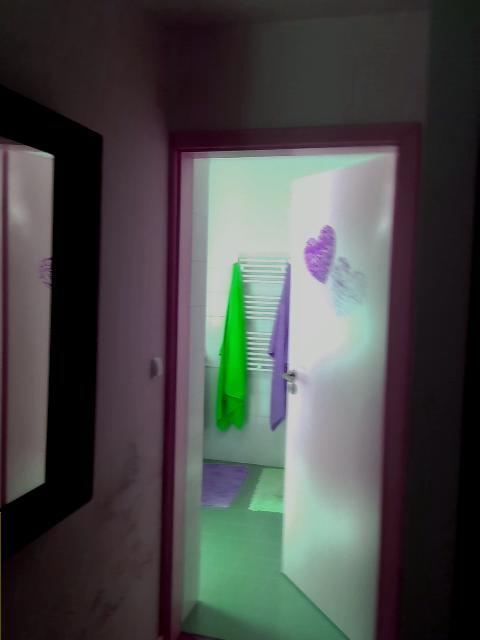semi_door: (163, 120, 423, 639)
